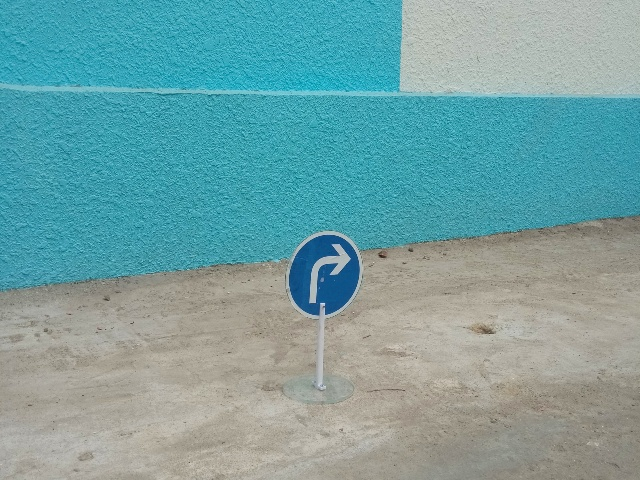Right_Sign: (286, 229, 363, 320)
